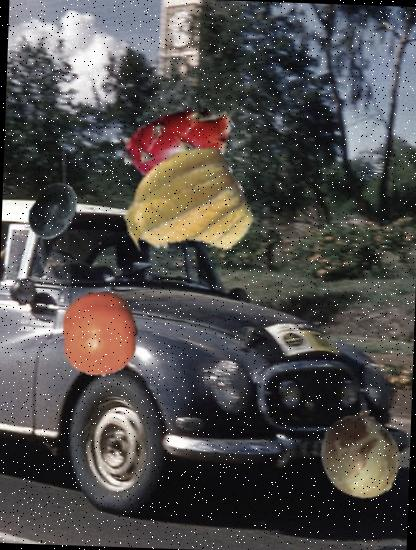Blueberry: (23, 180, 86, 243)
Clementine: (57, 290, 146, 379)
Onion: (318, 412, 406, 501)
Physalis: (121, 148, 249, 276)
Pitahaya: (122, 86, 240, 204)
